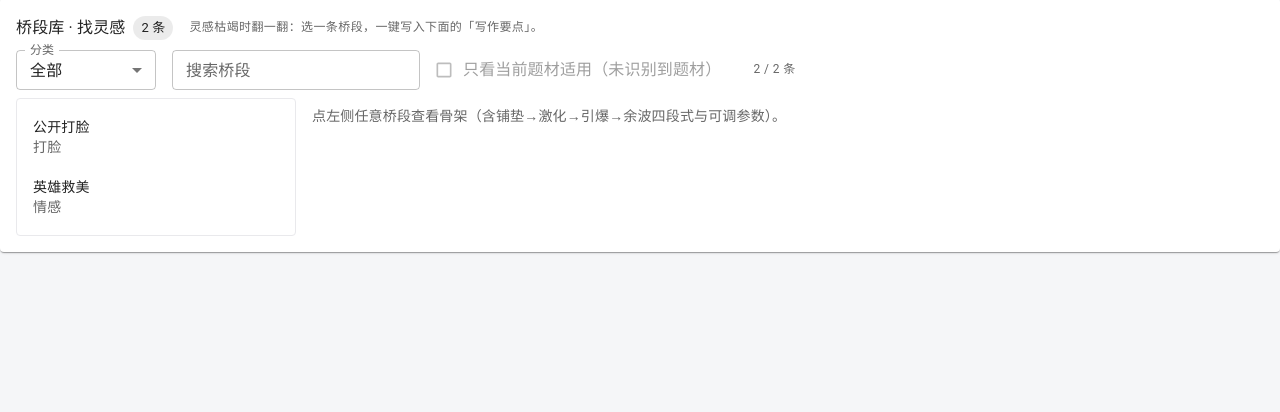
Scenario: TropePanel › 选中桥段展示骨架详情
Click the text "公开打脸". click: (61, 127)
box: [33,119,90,135]
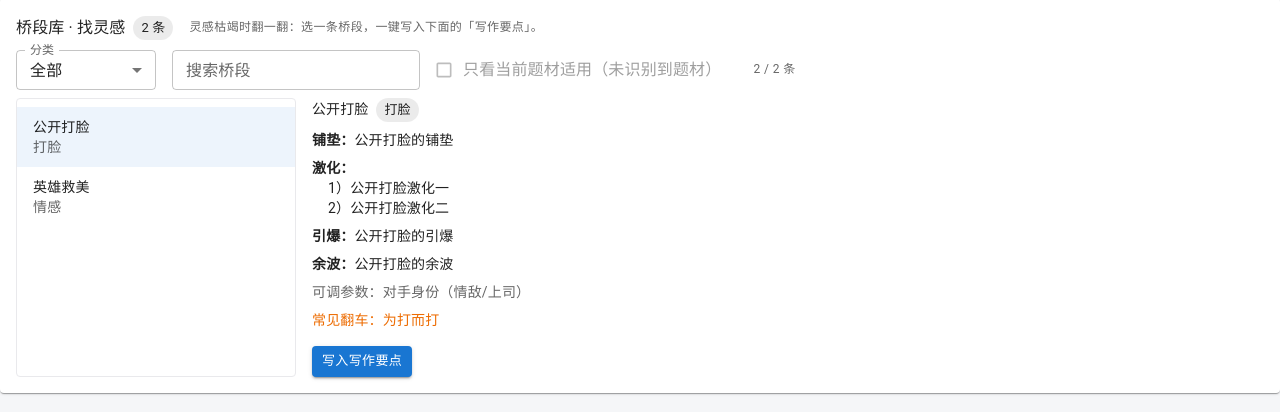
Expected: the text "铺垫：公开打脸的铺垫" is shown, [312,132,454,148]
Expected: the text "引爆：公开打脸的引爆" is shown, [312,228,454,244]
Expected: the text "可调参数：对手身份（情敌/上司）" is shown, [312,284,530,300]
